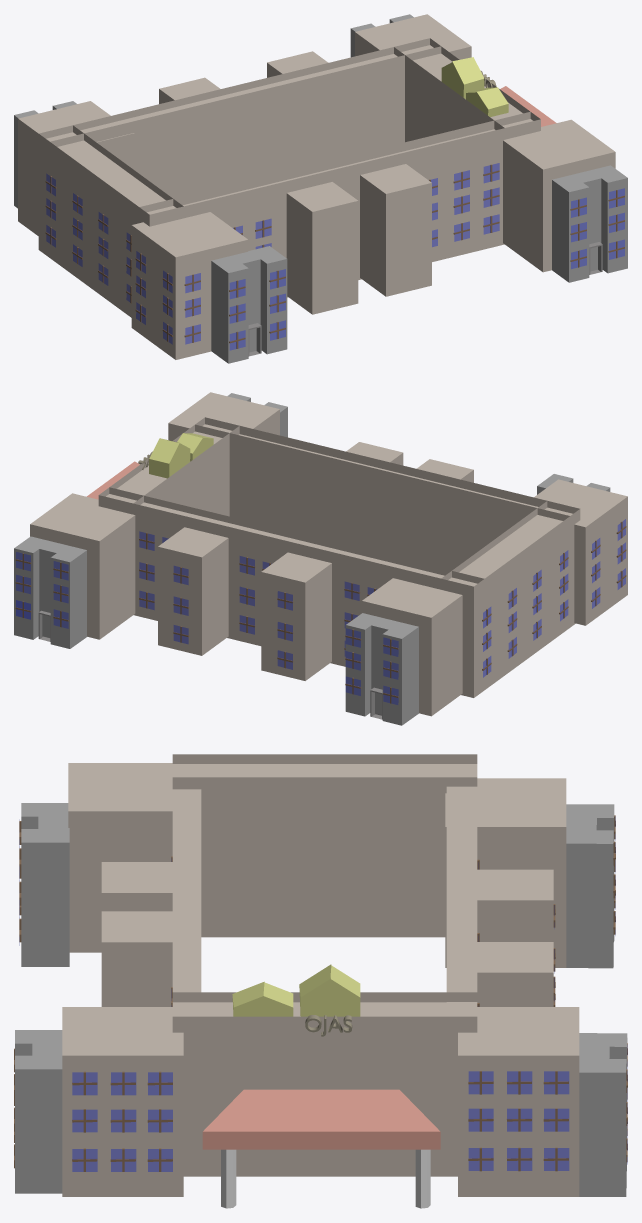
The model's file is ojas1.glb.
3 views of the same model, one above another, from view 1: azimuth 30°, elevation 25°; view 2: azimuth 150°, elevation 25°; view 3: azimuth 270°, elevation 25° (orthographic). The views are drawn at different scales.
Visible parts, largest first — view 1: Cube, Cube.007, Cube.006, Cube.001, Cube.002, Cube.008, Cube.009, Cube.011, Cube.005, Cube.103, Cube.102, Cube.003 (+2 smaller); view 2: Cube, Cube.005, Cube.003, Cube.004, Cube.011, Cube.007, Cube.012, Cube.010, Cube.006, Cube.103, Cube.002, Cube.001 (+1 smaller); view 3: Cube, Cube.006, Cube.005, Cube.007, Cube.104, Cube.011, Cube.008, Cube.012, Cube.010, Cube.009, Cube.002, Cube.003 (+15 smaller).
Boxes of the visible parts, left/top/right/bottom form: Cube: left=38, top=38, right=540, bottom=317; Cube.007: left=131, top=212, right=248, bottom=359; Cube.006: left=503, top=119, right=615, bottom=272; Cube.001: left=286, top=182, right=358, bottom=314; Cube.002: left=360, top=164, right=431, bottom=296; Cube.008: left=211, top=246, right=287, bottom=363; Cube.009: left=552, top=165, right=627, bottom=282; Cube.011: left=18, top=101, right=134, bottom=235; Cube.005: left=355, top=14, right=471, bottom=59; Cube.103: left=441, top=57, right=484, bottom=98; Cube.102: left=466, top=87, right=508, bottom=116; Cube.003: left=159, top=77, right=220, bottom=103; Cube: left=98, top=417, right=580, bottom=697; Cube.005: left=30, top=493, right=135, bottom=639; Cube.003: left=261, top=552, right=331, bottom=680; Cube.004: left=158, top=527, right=228, bottom=655; Cube.011: left=362, top=578, right=462, bottom=716; Cube.007: left=534, top=479, right=627, bottom=625; Cube.012: left=345, top=613, right=418, bottom=725; Cube.010: left=14, top=536, right=86, bottom=648; Cube.006: left=168, top=392, right=279, bottom=440; Cube.103: left=149, top=438, right=190, bottom=478; Cube.002: left=346, top=442, right=403, bottom=465; Cube.001: left=416, top=459, right=473, bottom=482; Cube: left=172, top=754, right=477, bottom=1176; Cube.006: left=62, top=1007, right=183, bottom=1196; Cube.005: left=458, top=1007, right=579, bottom=1196; Cube.007: left=68, top=763, right=172, bottom=952; Cube.104: left=202, top=1089, right=440, bottom=1149; Cube.011: left=445, top=778, right=566, bottom=967; Cube.008: left=21, top=803, right=69, bottom=966; Cube.012: left=566, top=804, right=614, bottom=968; Cube.010: left=579, top=1033, right=627, bottom=1196; Cube.009: left=15, top=1030, right=62, bottom=1193; Cube.002: left=101, top=911, right=172, bottom=1006; Cube.003: left=477, top=869, right=553, bottom=941.
Bounding box in the file's own units: 44.68 × 12.76 × 37.04.
